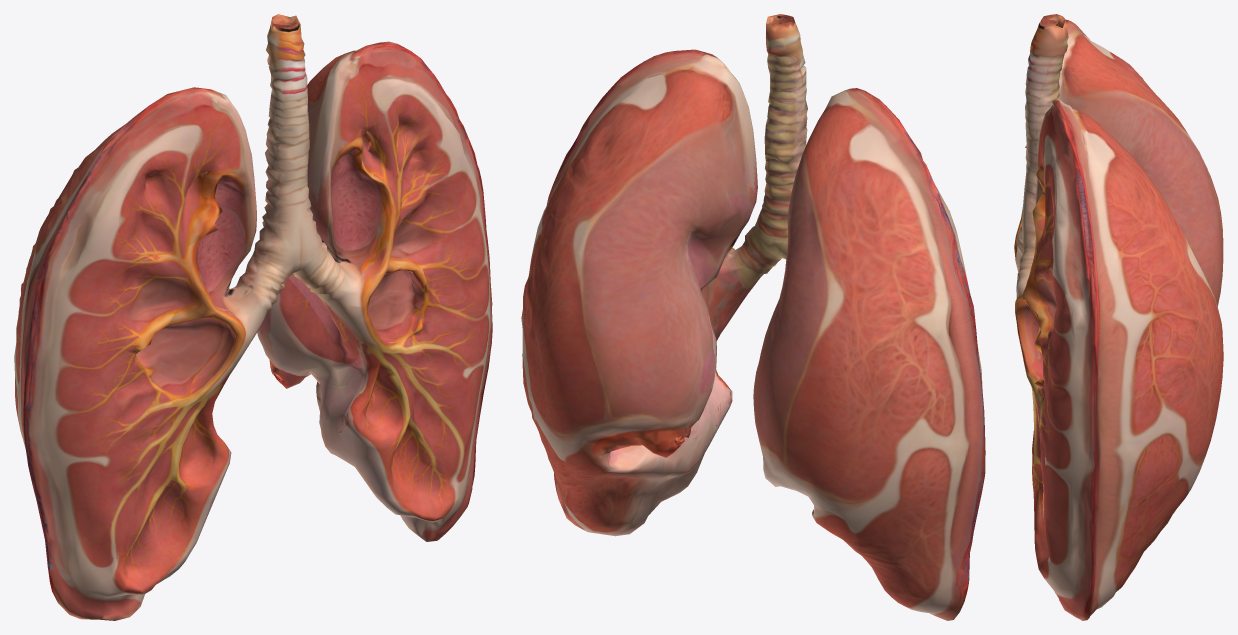
Rendered from lungs.glb.
3 renders of one model, left to right at view 1: azimuth 30°, elevation 25°; view 2: azimuth 150°, elevation 25°; view 3: azimuth 270°, elevation 25°, orthographic. The views are drawn at different scales.
Bounding box in the file's own units: 1.73 × 2 × 0.7288.
Materials: 1 (1 with a texture image).
